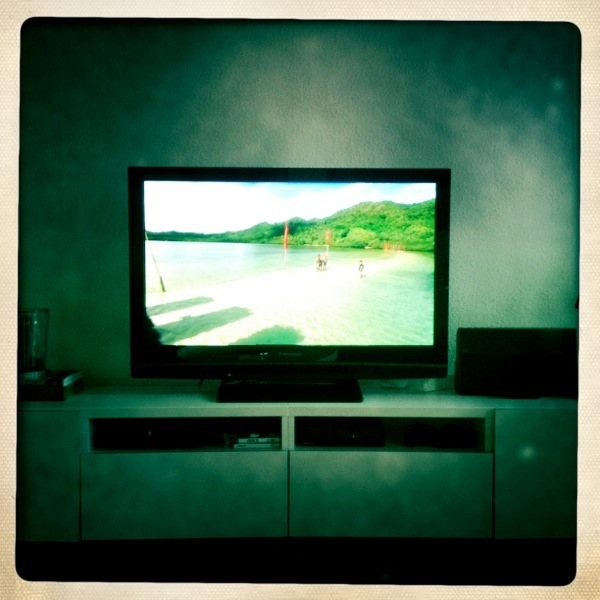tv monitor: (124, 159, 465, 404)
